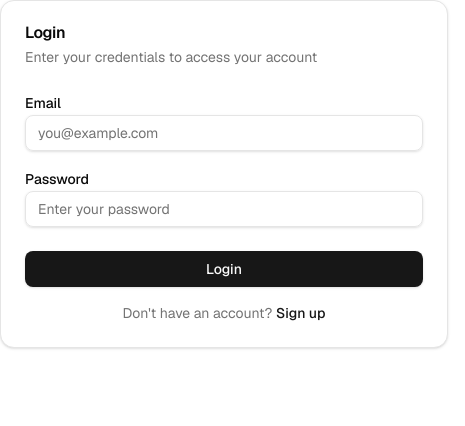
it: LoginForm › displays error message when login fails
Type "test@example.com" into the field labelled "Email" at [224, 133], box x1=25 y1=115 x2=423 y2=151
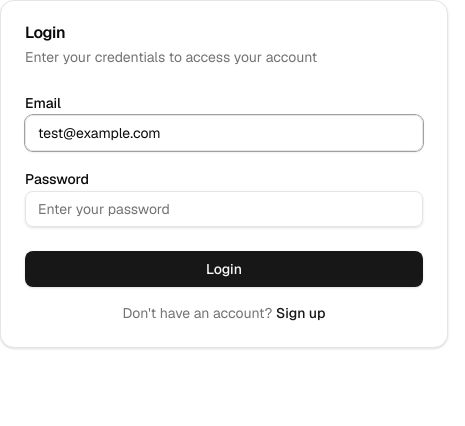
Type "wrongpassword" into the password field labelled "Password" at [224, 209], box x1=25 y1=191 x2=423 y2=227
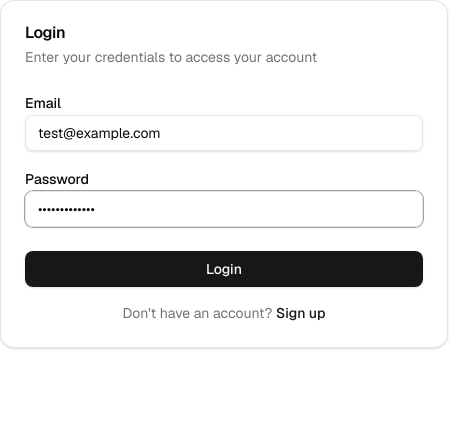
Click the button "Login" at [224, 269], box x1=25 y1=251 x2=423 y2=287
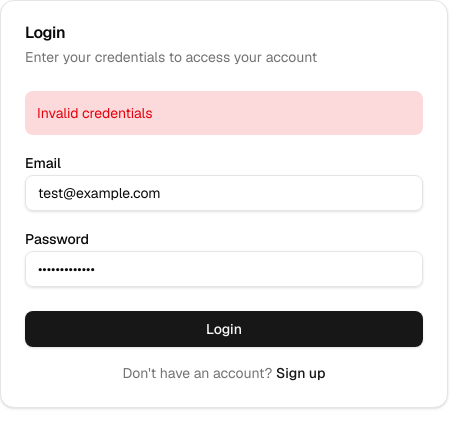
expect the text "Invalid credentials" is shown: met, box x1=25 y1=91 x2=423 y2=135
